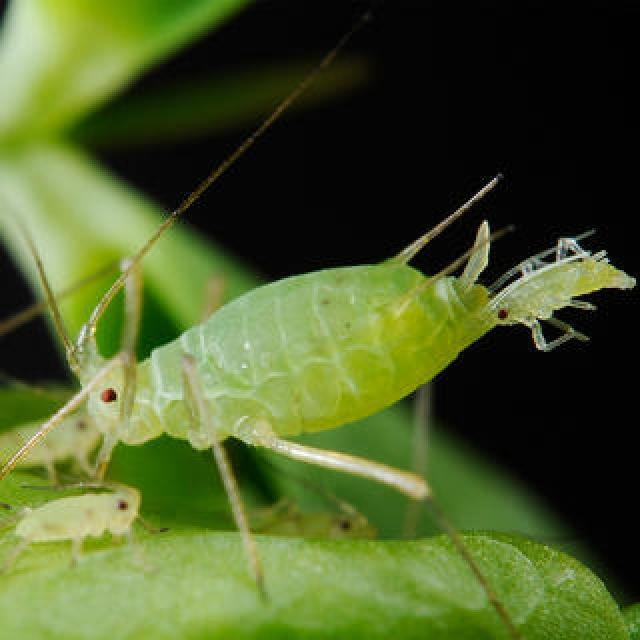aphid: (74, 238, 483, 461), (486, 216, 640, 368), (5, 480, 153, 560)
